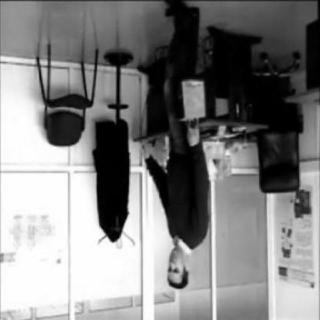other: (176, 76, 208, 129)
